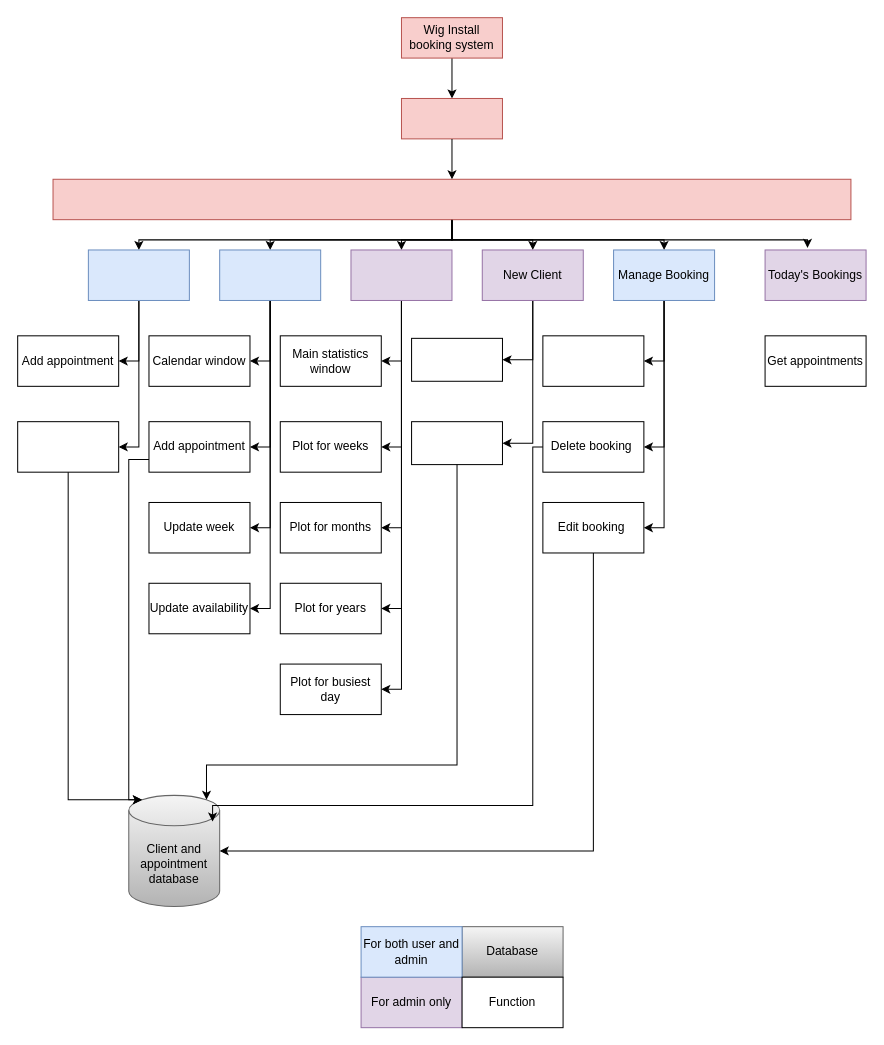
Some shapes in this 884 by 1045 pixel diagram are drawn without their labels. Here are the shapes that lost their labels. From the top down, the centre of each, then its label:
[451,118]: Login/Sign up
[451,199]: Homepage (admin and user)
[138,274]: New Booking
[270,274]: Calendar
[401,274]: Statistics
[456,359]: Create client
[593,360]: Search booking
[68,446]: Insert appointment in database
[456,443]: Insert client in appointment
